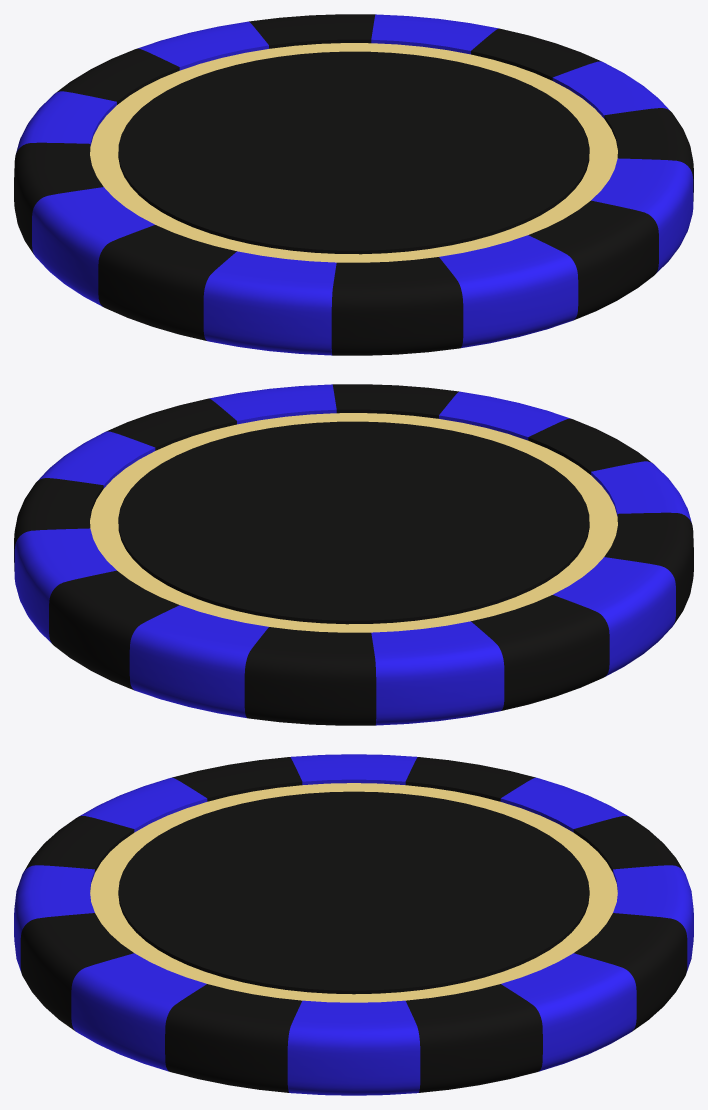
File: chip_black.glb
The picture shows the model from 3 angles, top to bottom: view 1: azimuth 30°, elevation 25°; view 2: azimuth 150°, elevation 25°; view 3: azimuth 270°, elevation 25°; orthographic projection.
Parts seen in each view (by area): view 1: Cylinder; view 2: Cylinder; view 3: Cylinder.
Part boxes in pixels (bbox=[...]): Cylinder: bbox=[14, 14, 693, 355]; Cylinder: bbox=[14, 384, 693, 725]; Cylinder: bbox=[14, 754, 693, 1095].
Size of the model in its own units: 0.8942 by 0.0981 by 0.8942.
